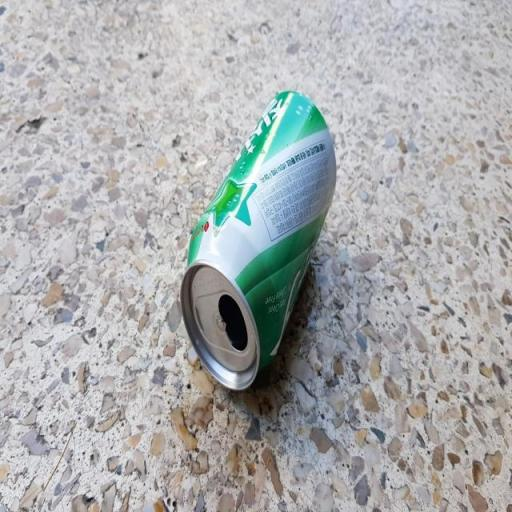metal: (170, 28, 346, 440)
